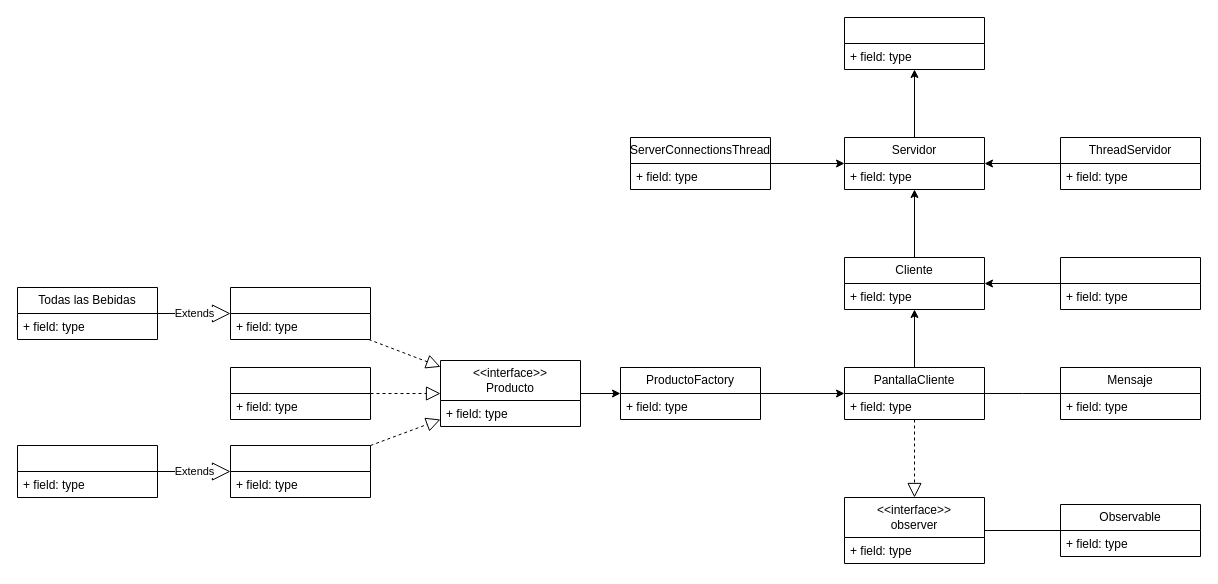
The diagram is 1218 pixels wide and 584 high, and some of its shapes have lost their labels. The shapes that lost their labels are listed below. From the top down, each one's box as (x1, y1, x2, y2) in pixels, then its label:
(844, 16, 984, 70): PantallaServidor
(1060, 256, 1200, 310): ThreadCliente
(230, 286, 370, 340): Bebida
(230, 366, 370, 420): Combo
(16, 444, 158, 498): Todas las Comidas
(230, 444, 370, 498): Comida
